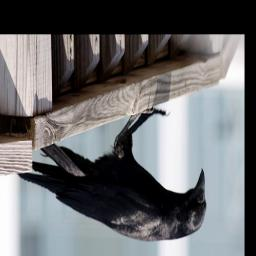Crow: (16, 108, 207, 243)
